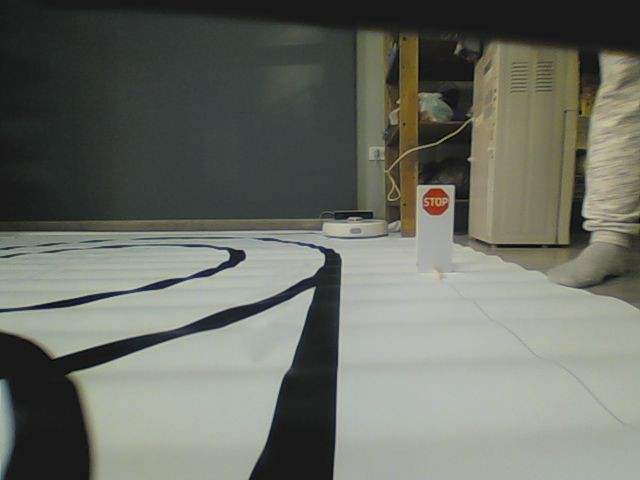Stop: (421, 187, 450, 217)
